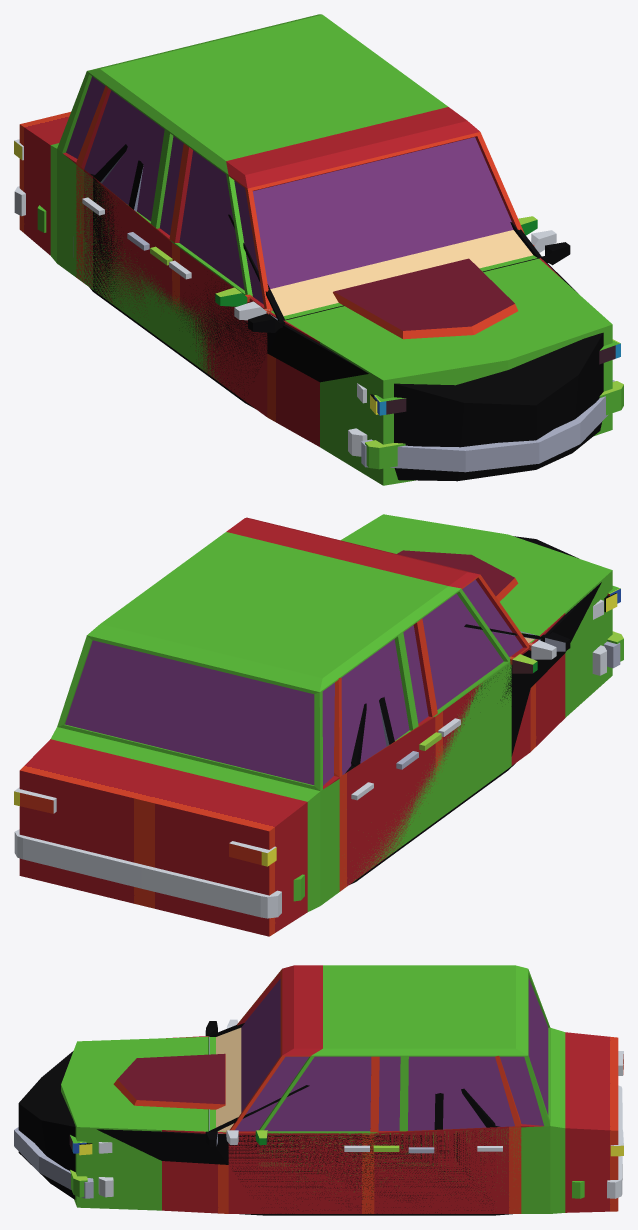
File: ArkadRacer.glb
3 views of the same model, one above another, from view 1: azimuth 30°, elevation 25°; view 2: azimuth 150°, elevation 25°; view 3: azimuth 270°, elevation 25° (orthographic). The views are drawn at different scales.
Parts seen in each view (by area): view 1: CupéGreen1, SedanRed1, SportBlack1; view 2: CupéGreen1, SedanRed1, SportBlack1; view 3: CupéGreen1, SedanRed1, SportBlack1.
Part boxes in pixels (box(x1,y1,x2,y2)): CupéGreen1: box(37, 14, 623, 485); SedanRed1: box(14, 85, 561, 456); SportBlack1: box(73, 144, 615, 481); CupéGreen1: box(51, 514, 623, 911); SedanRed1: box(14, 517, 606, 936); SportBlack1: box(345, 536, 620, 884); CupéGreen1: box(61, 965, 584, 1213); SedanRed1: box(98, 965, 623, 1213); SportBlack1: box(14, 1021, 512, 1215).
Size of what is drawn, in the model's own units: 4.53 by 2.84 by 9.85.
Materials: 2 (2 with a texture image).
